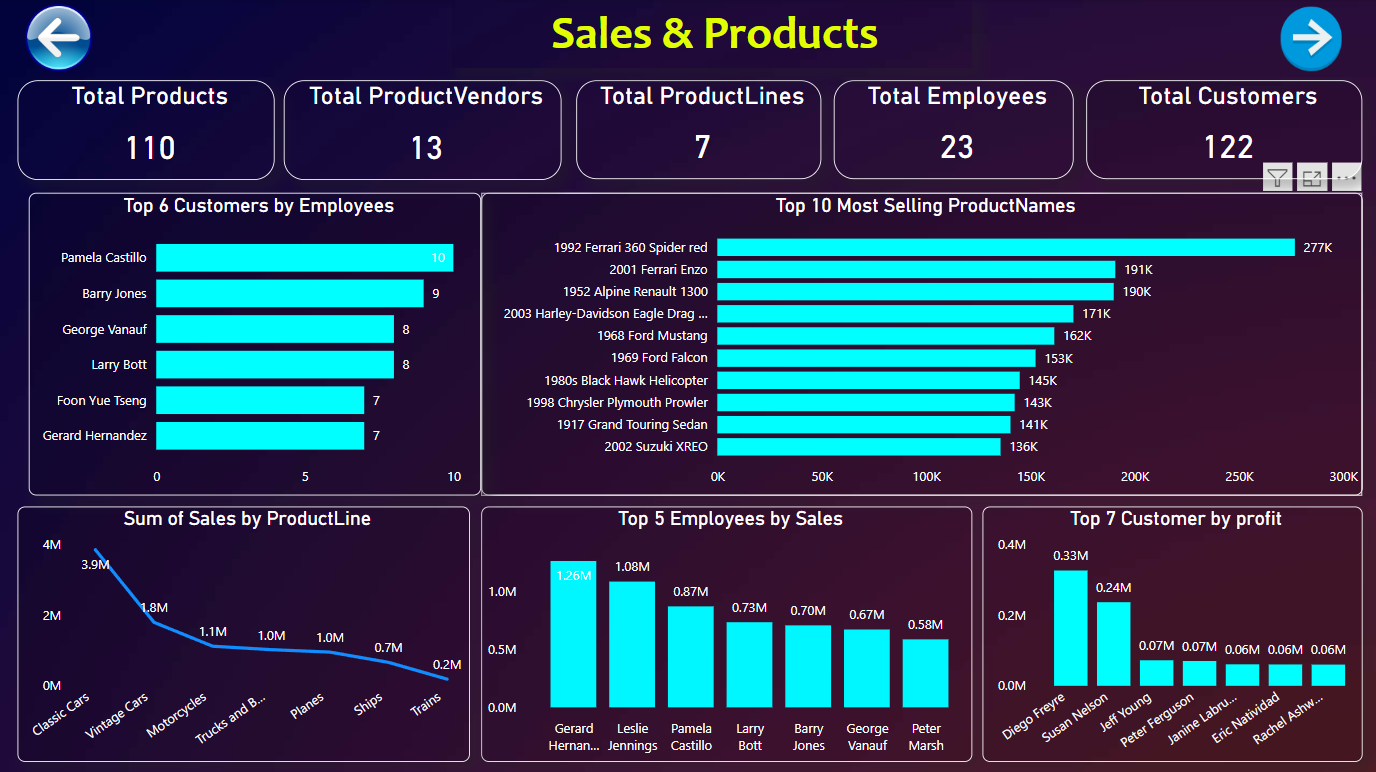

This screenshot's page, from the dashboard's own definition file:
{"tool":"powerbi","page":{"name":"Page 2","canvas":[1280,720],"ordinal":1},"visuals":[{"type":"clusteredBarChart","title":"Top 10 Most Selling ProductNames","fields":{"Category":["Products.productName"],"Y":["Orderdetails.Sales"]},"box":[447.7,180.2,819.8,281.4],"z":0},{"type":"card","title":"Total Products","fields":{"Values":["Products.Productcode"]},"box":[16.3,75.6,239.5,93],"z":1000},{"type":"card","title":"Total ProductVendors","fields":{"Values":["Products.productVendor"]},"box":[264,75.6,258.1,93],"z":2000},{"type":"card","title":"Total ProductLines","fields":{"Values":["Products.productLine"]},"box":[536,75.6,227.9,91.9],"z":3000},{"type":"columnChart","title":"Top 5 Employees by Sales","fields":{"Category":["Employees.EmployeeNames"],"Y":["Orderdetails.Sales"]},"box":[447.7,472.1,457,237.2],"z":4000},{"type":"card","title":"Total Employees","fields":{"Values":["Employees.EmployeeNames"]},"box":[775.6,75.6,223.3,91.9],"z":5000},{"type":"columnChart","title":"Top 7 Customer by profit","fields":{"Category":["Customers.CustomerNames"],"Y":["Orderdetails.Profit"]},"box":[914,472.1,353.5,237.2],"z":6000},{"type":"card","title":"Total Customers","fields":{"Values":["Customers.CustomerID"]},"box":[1010.5,75.6,257,91.9],"z":7000},{"type":"textbox","box":[419.8,0,484.9,64],"z":8000},{"type":"image","box":[1184.9,2.3,69.8,69.8],"z":9000},{"type":"image","box":[16.3,0,76.7,72.1],"z":10000},{"type":"clusteredBarChart","title":"Top 6 Customers by Employees","fields":{"Category":["Employees.EmployeeNames"],"Y":["Customers.CustomerID"]},"box":[26.7,180.2,420.9,281.4],"z":11000},{"type":"lineChart","fields":{"Y":["Orderdetails.Sales"],"Category":["Productlines.ProductLine"]},"box":[16.3,472.1,420.9,237.2],"z":12000}]}

Visuals, with their boxes in screenshot pixels (x1, y1, x2, y2), scaled from the page's 1280x720 canvas onto the 1376x772 screenshot:
"Top 10 Most Selling ProductNames" clusteredBarChart: l=481, t=193, r=1363, b=495
"Total Products" card: l=18, t=81, r=275, b=181
"Total ProductVendors" card: l=284, t=81, r=561, b=181
"Total ProductLines" card: l=576, t=81, r=821, b=180
"Top 5 Employees by Sales" columnChart: l=481, t=506, r=973, b=761
"Total Employees" card: l=834, t=81, r=1074, b=180
"Top 7 Customer by profit" columnChart: l=983, t=506, r=1363, b=761
"Total Customers" card: l=1086, t=81, r=1363, b=180
textbox: l=451, t=0, r=973, b=69
image: l=1274, t=2, r=1349, b=77
image: l=18, t=0, r=100, b=77
"Top 6 Customers by Employees" clusteredBarChart: l=29, t=193, r=481, b=495
lineChart - Orderdetails.Sales x Productlines.ProductLine: l=18, t=506, r=470, b=761
